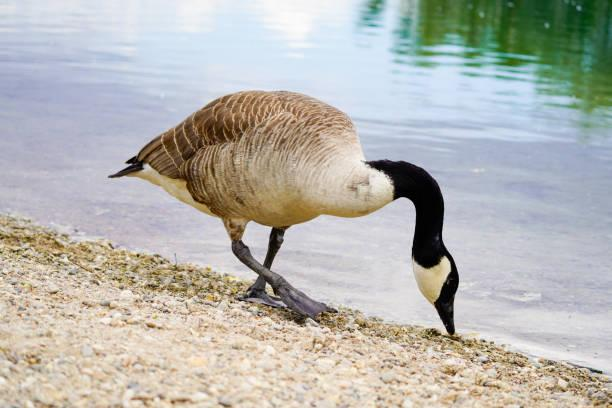Canadian-Goose: (102, 87, 460, 341)
